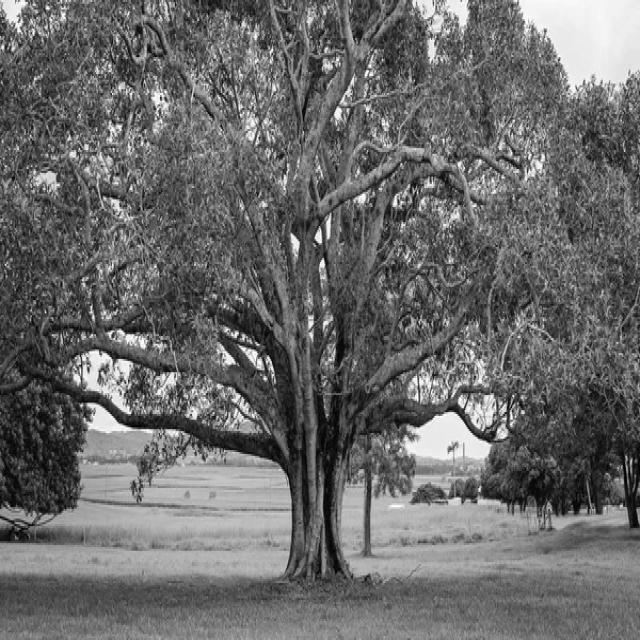Tree: (0, 0, 640, 581), (0, 383, 91, 532)
